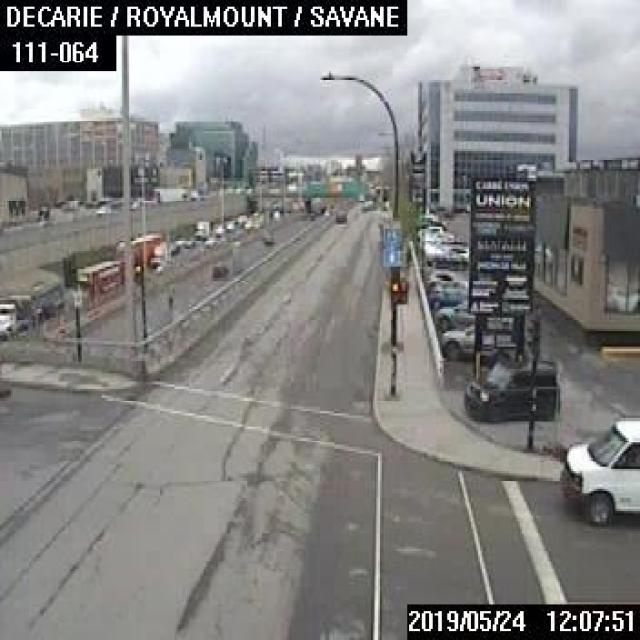vehicle: (558, 413, 638, 527), (462, 356, 558, 418), (438, 318, 529, 363), (0, 278, 64, 333), (72, 254, 122, 306), (432, 300, 474, 330), (426, 277, 470, 304), (421, 268, 466, 290), (424, 248, 467, 270), (192, 218, 210, 237), (210, 262, 229, 278), (260, 229, 275, 244), (334, 208, 346, 222)
